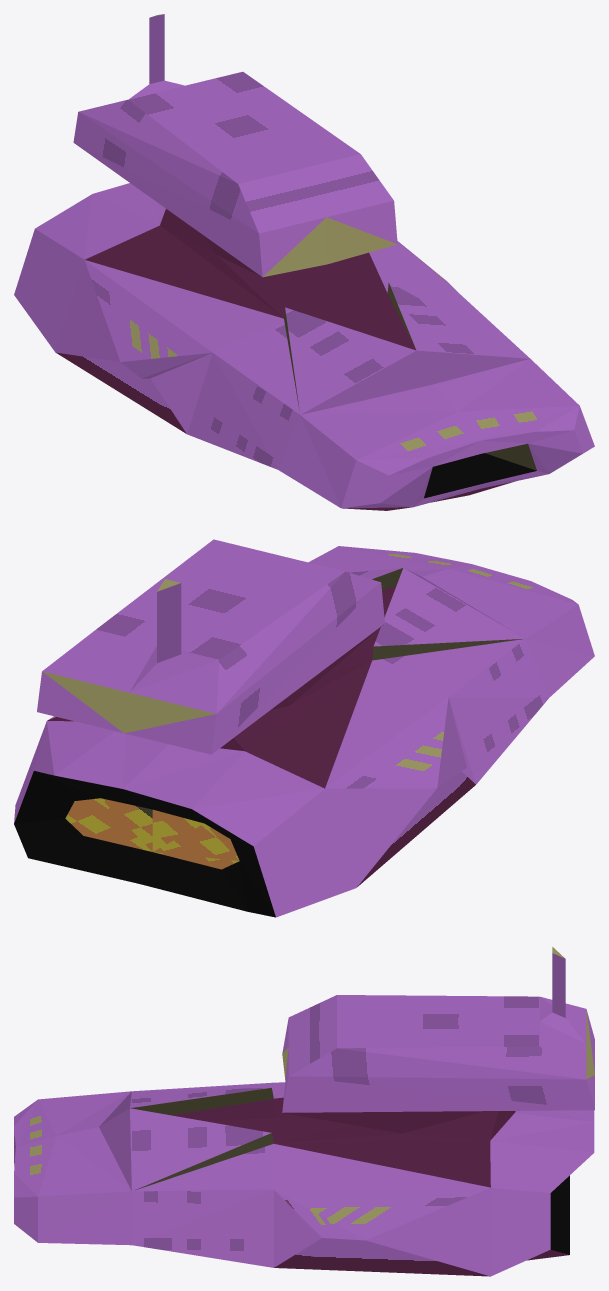
File: gamilon_popcorn.glb
The picture shows the model from 3 angles, top to bottom: view 1: azimuth 30°, elevation 25°; view 2: azimuth 150°, elevation 25°; view 3: azimuth 270°, elevation 25°; orthographic projection. The views are drawn at different scales.
Visible parts, largest first — view 1: GamilonPopcorn; view 2: GamilonPopcorn; view 3: GamilonPopcorn.
Part boxes in pixels (left/top/right/bottom): GamilonPopcorn: left=14, top=14, right=594, bottom=510; GamilonPopcorn: left=14, top=539, right=594, bottom=917; GamilonPopcorn: left=14, top=947, right=594, bottom=1276.
Bounding box in the file's own units: 1.48 × 1.25 × 2.52.
1 material, 1 textured.
